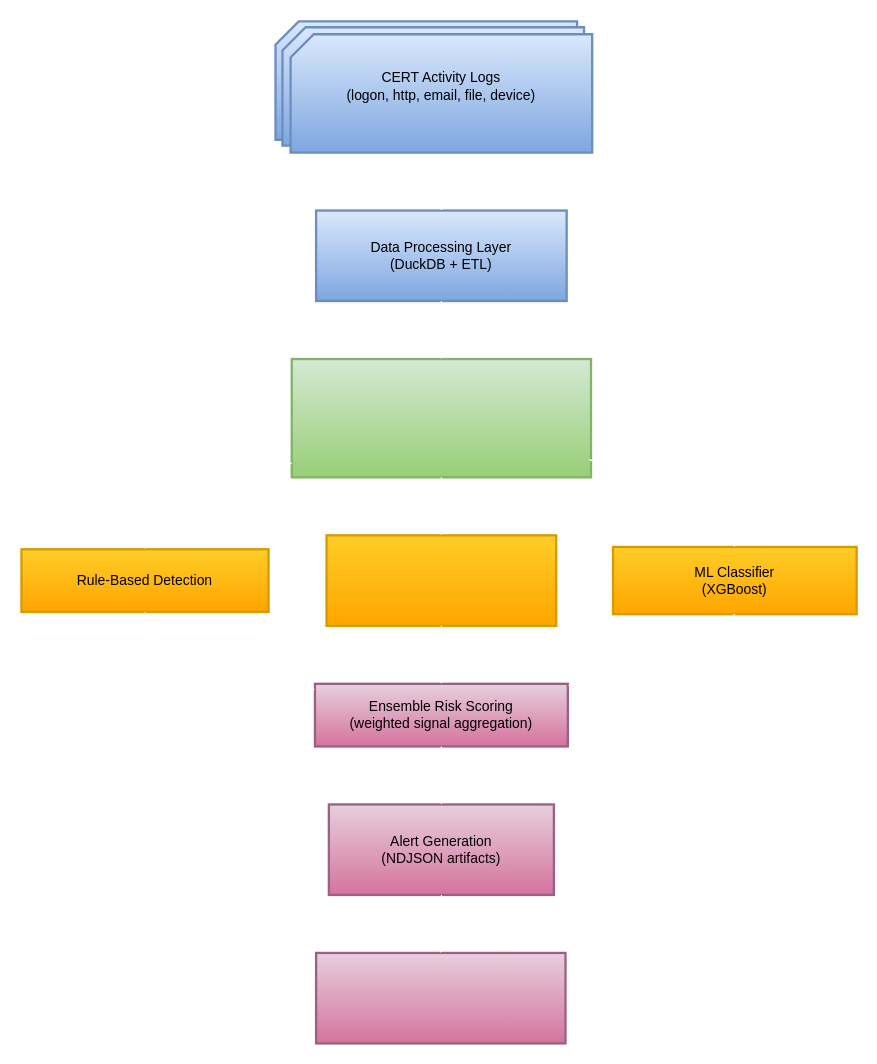
This 877x1064 diagram has some shape labels left out. Here are the shapes that lost their labels. From the top down, the box of each, then its label:
(290, 357, 592, 478): Feature Engineering (behavioral time-window metrics)
(325, 534, 557, 626): Anomaly Detection (behavior baseline)
(314, 951, 566, 1044): Monitoring Dashboard (FastAPI UI)
